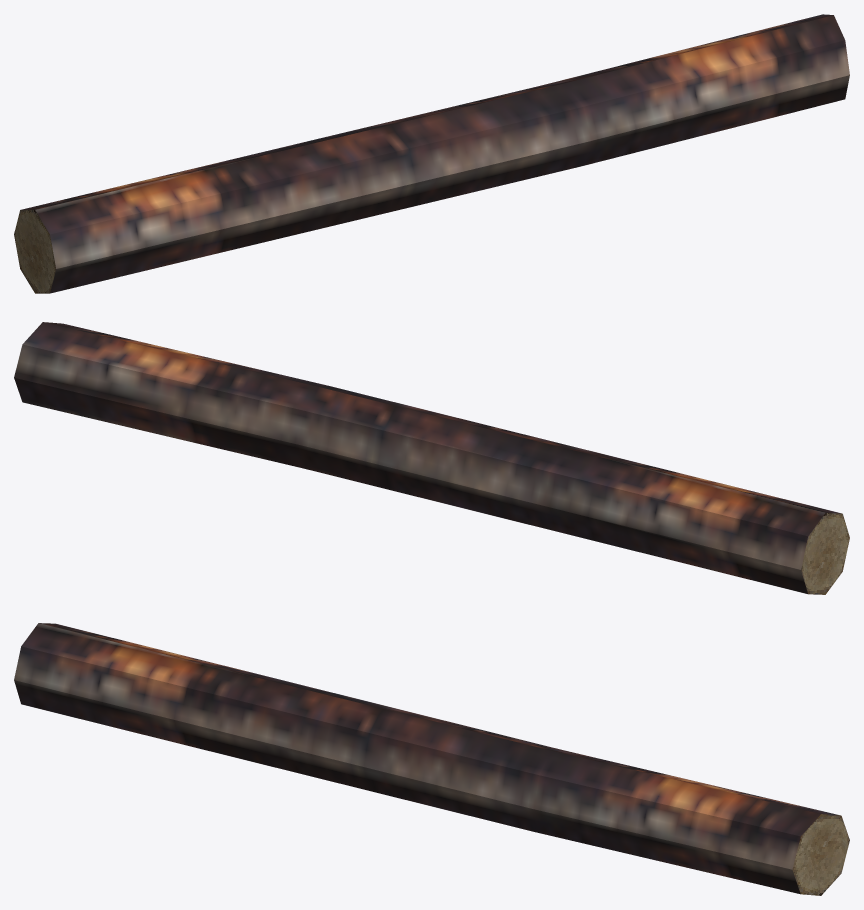
The model's file is Log02.obj.
3 renders of one model, top to bottom at view 1: azimuth 30°, elevation 25°; view 2: azimuth 150°, elevation 25°; view 3: azimuth 330°, elevation 25°, orthographic. The views are drawn at different scales.
Parts seen in each view (by area): view 1: Log02; view 2: Log02; view 3: Log02.
Boxes of the visible parts, x1=… form: Log02: x1=14, y1=14, x2=849, y2=293; Log02: x1=14, y1=322, x2=849, y2=594; Log02: x1=14, y1=623, x2=849, y2=895.
Bounding box in the file's own units: 10.11 × 1 × 1.05.
